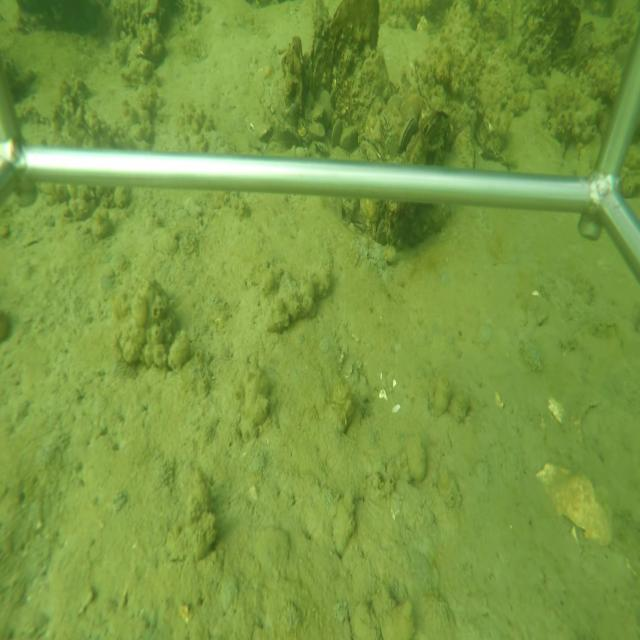Oyster-Closed: (423, 109, 450, 148), (398, 116, 412, 153), (306, 122, 326, 141)
Oyster-Indeterminate: (339, 126, 359, 149)
